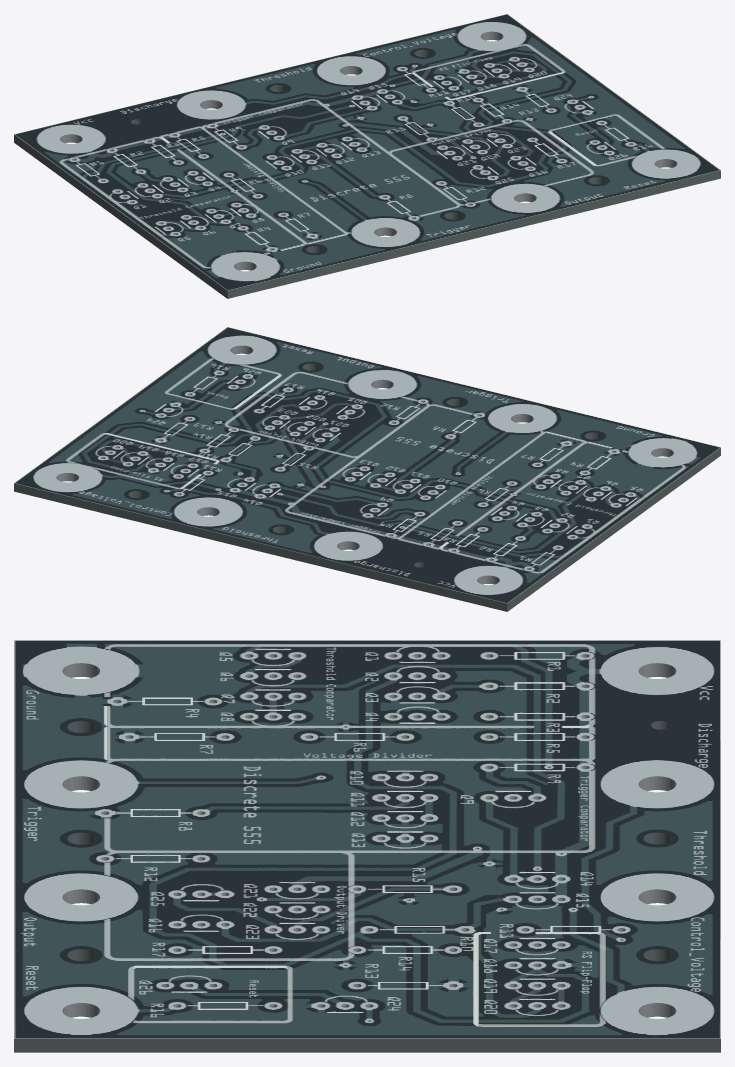
File: pcb.glb
3 renders of one model, top to bottom at view 1: azimuth 30°, elevation 25°; view 2: azimuth 150°, elevation 25°; view 3: azimuth 270°, elevation 25°, orthographic. The views are drawn at different scales.
Visible parts, largest first — view 1: Placa 555 Discreto Rev1; view 2: Placa 555 Discreto Rev1; view 3: Placa 555 Discreto Rev1.
Boxes of the visible parts, <box> form: Placa 555 Discreto Rev1: <box>14,14,720,298</box>; Placa 555 Discreto Rev1: <box>14,327,720,611</box>; Placa 555 Discreto Rev1: <box>14,640,720,1052</box>.
Bounding box in the file's own units: 0.0998 × 0.0016 × 0.0748.
Materials: 4 (2 with a texture image).
